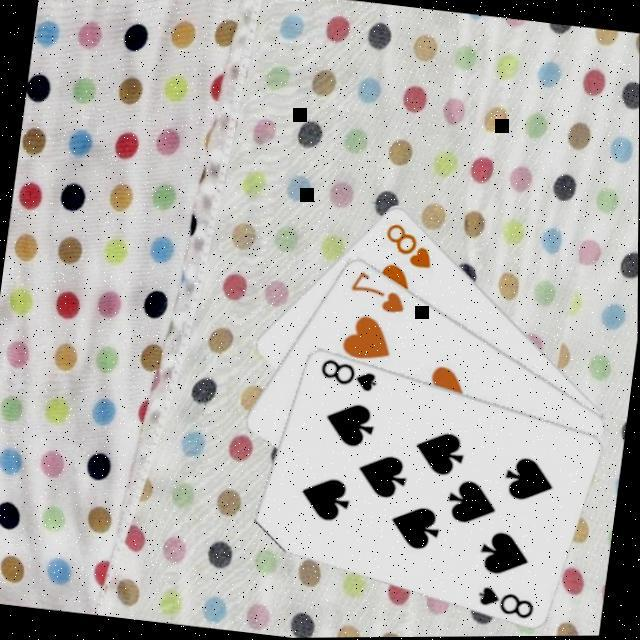7H: (345, 264, 412, 315)
8H: (379, 216, 440, 270)
8S: (317, 353, 383, 393), (474, 580, 540, 620)
